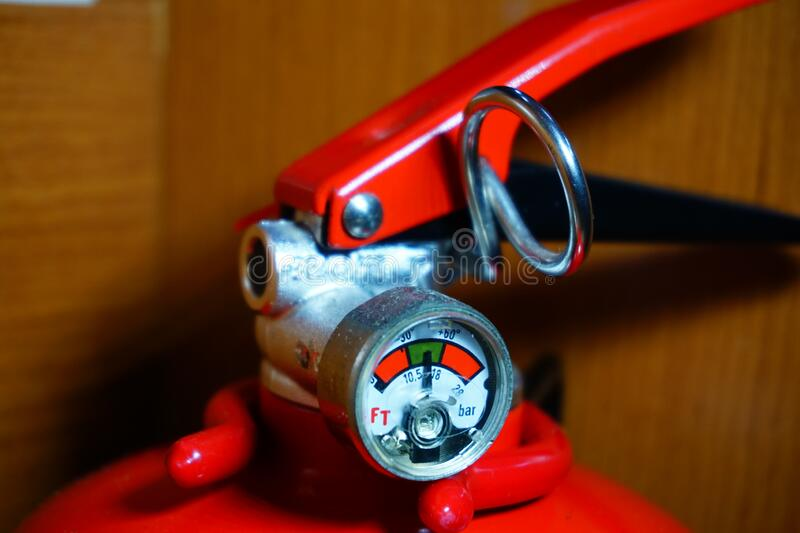fire_extinguisher: (12, 1, 797, 532)
